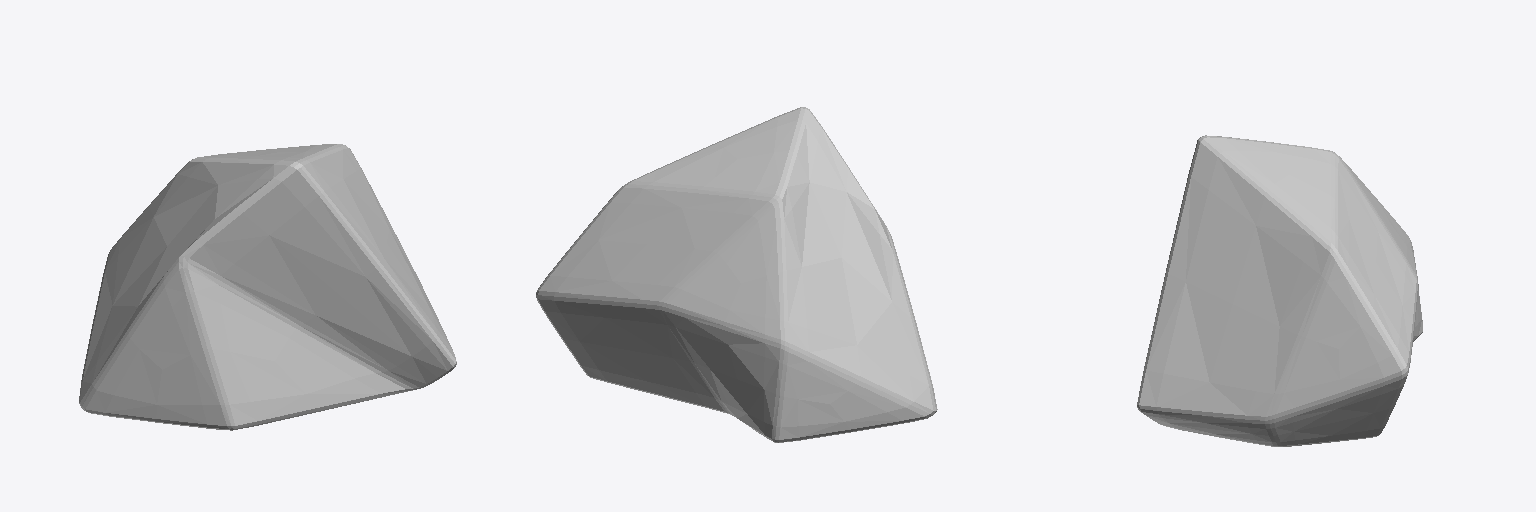
Rendered from rock-tree3-01.obj.
The picture shows the model from 3 angles: view 1: azimuth 30°, elevation 25°; view 2: azimuth 150°, elevation 25°; view 3: azimuth 270°, elevation 25°; orthographic projection.
Parts seen in each view (by area): view 1: rock_tree3_01 Rocks; view 2: rock_tree3_01 Rocks; view 3: rock_tree3_01 Rocks.
Part boxes in pixels (x1,y1,x2,y2): rock_tree3_01 Rocks: (79,144,456,430); rock_tree3_01 Rocks: (536,107,937,442); rock_tree3_01 Rocks: (1137,135,1422,446).
Bounding box in the file's own units: 1.06 × 0.7123 × 0.7693.